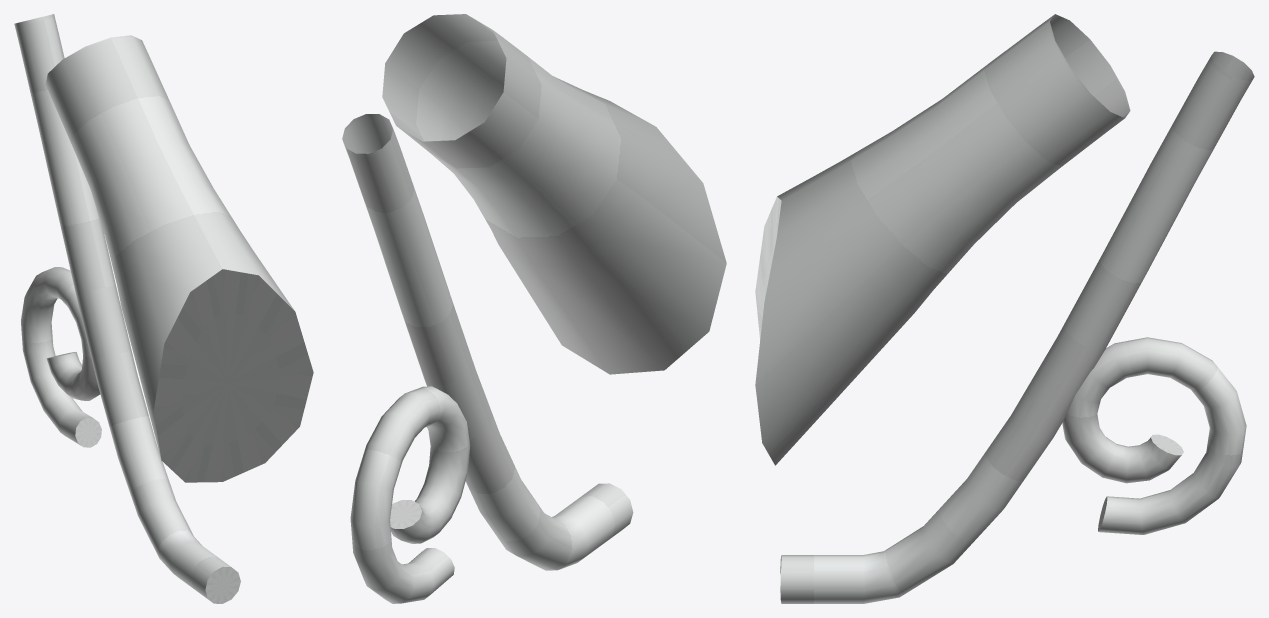
File: luminairearm_anaheim8ft_c0.obj
The picture shows the model from 3 angles, left to right: view 1: azimuth 30°, elevation 25°; view 2: azimuth 150°, elevation 25°; view 3: azimuth 270°, elevation 25°; orthographic projection. The views are drawn at different scales.
Parts seen in each view (by area): view 1: luminairearm_anaheim8ft_c0; view 2: luminairearm_anaheim8ft_c0; view 3: luminairearm_anaheim8ft_c0.
Boxes of the visible parts, x1,y1,x2,y2 form: luminairearm_anaheim8ft_c0: (14,14,313,603); luminairearm_anaheim8ft_c0: (342,14,726,603); luminairearm_anaheim8ft_c0: (755,14,1254,603).
Bounding box in the file's own units: 0.3375 × 0.9761 × 0.7612.
